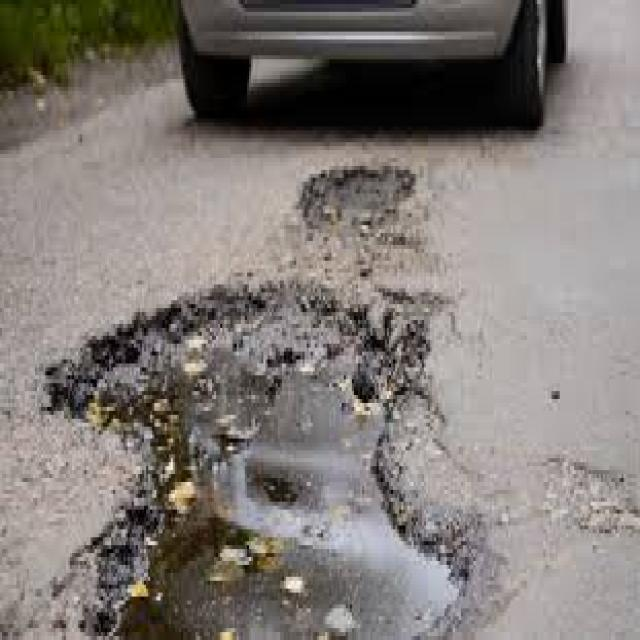Pothole: (43, 166, 461, 640)
